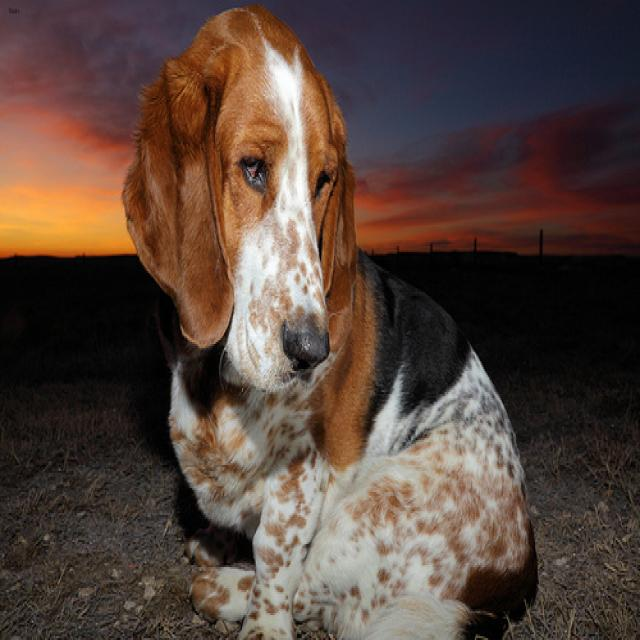dog-basset_hound: (109, 2, 547, 636)
